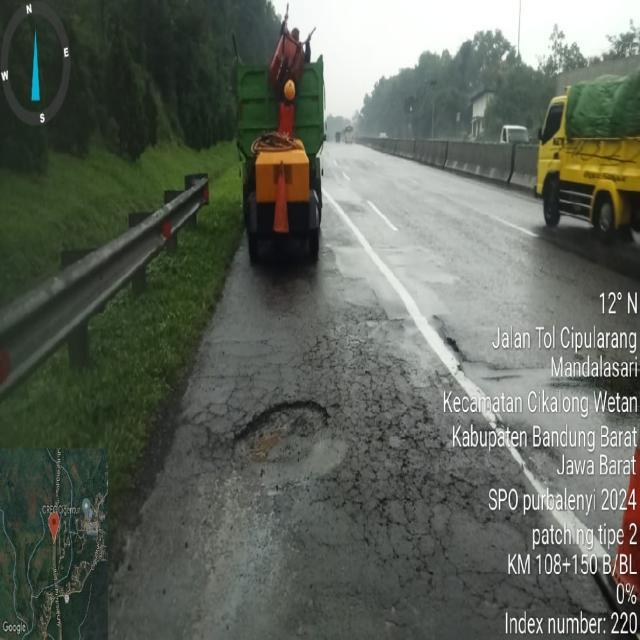Buraco: (224, 398, 334, 473), (444, 336, 462, 354)
